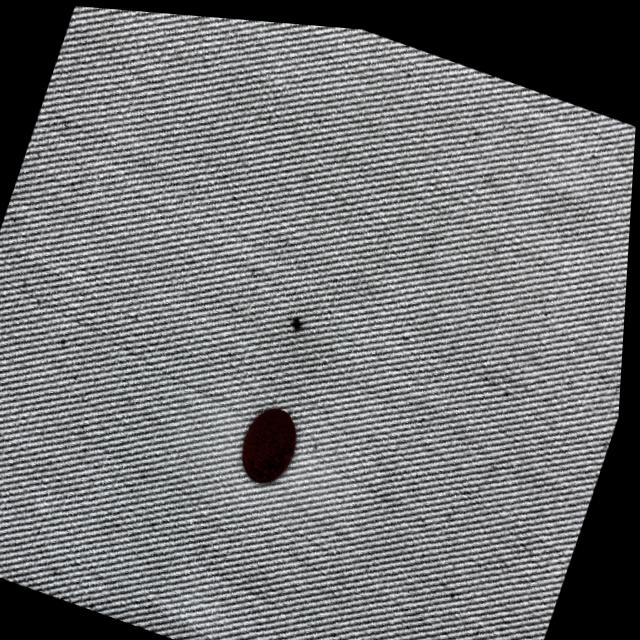Hole: (277, 296, 319, 344)
